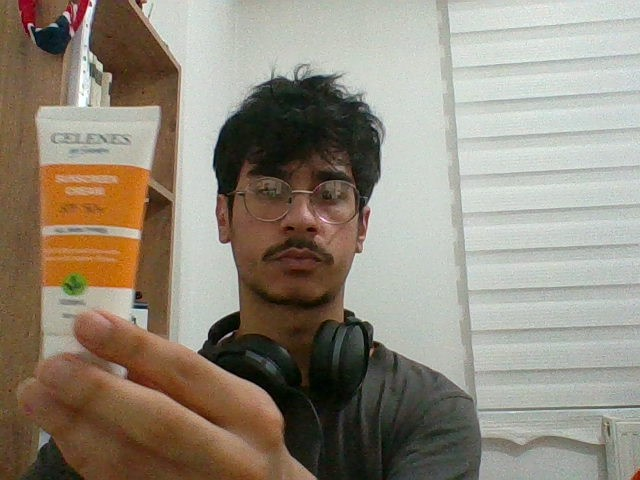CelenesSunCream: (35, 105, 158, 372)
